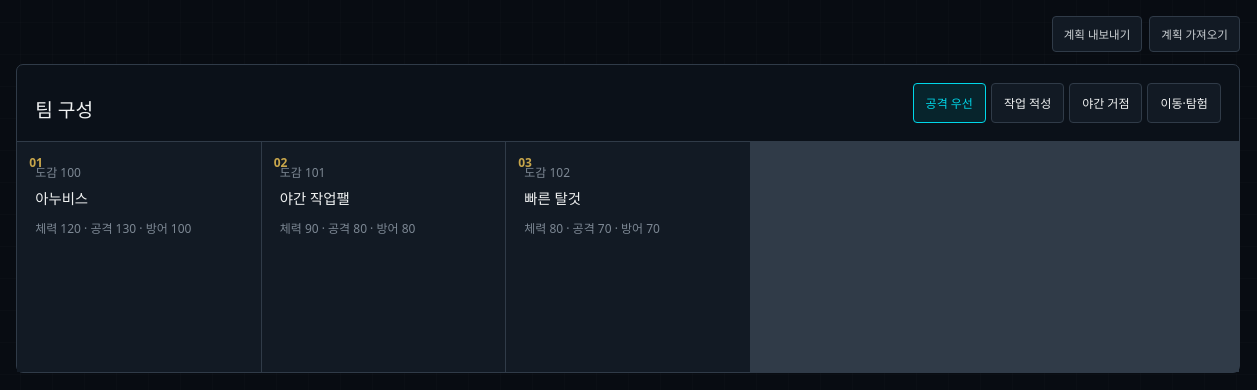
ToolsBoard › shows exact decision values without internal scores and switches goals
Check: the heading "팀 구성" is shown, box [35,95,93,123]
Check: the text "체력 120 · 공격 130 · 방어 100" is shown, box [35,220,192,237]
Step 1. Click the button "야간 거점" → (1106, 103), box [1069,83,1142,123]
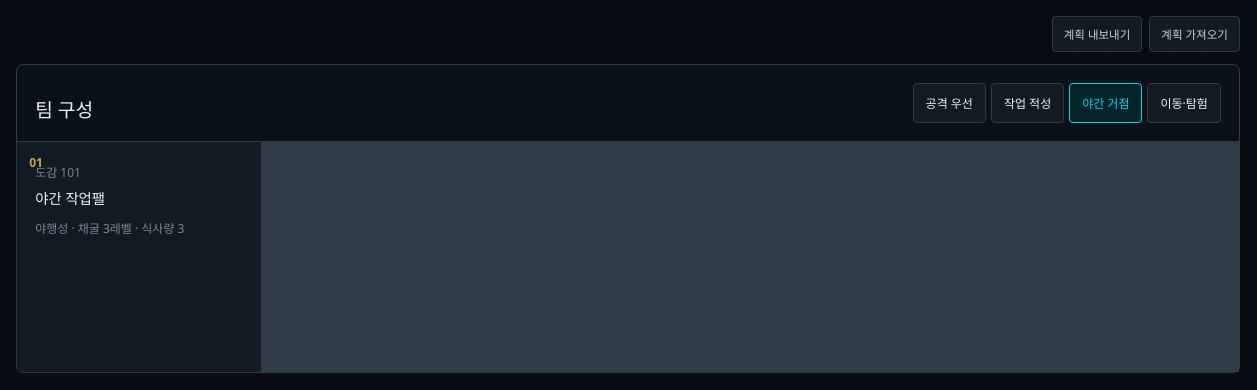
Check: the link "야간 작업팰" is shown, box [35,189,105,208]
Check: the text "야행성 · 채굴 3레벨 · 식사량 3" is shown, box [35,220,184,237]
